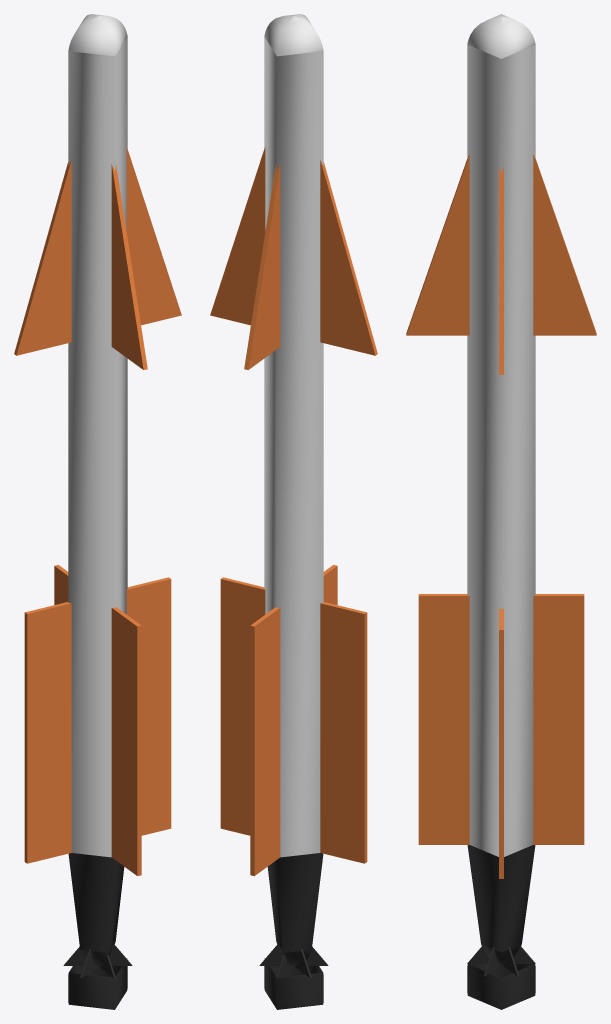
File: Missiles and bombs(1).glb
The picture shows the model from 3 angles, left to right: view 1: azimuth 30°, elevation 25°; view 2: azimuth 150°, elevation 25°; view 3: azimuth 270°, elevation 25°; orthographic projection.
Parts seen in each view (by area): view 1: Root; view 2: Root; view 3: Root.
Boxes of the visible parts, left/top/right/bottom form: Root: left=14, top=14, right=181, bottom=1009; Root: left=210, top=14, right=377, bottom=1009; Root: left=406, top=14, right=596, bottom=1009.
Bounding box in the file's own units: 0.8822 × 5 × 0.8822.
